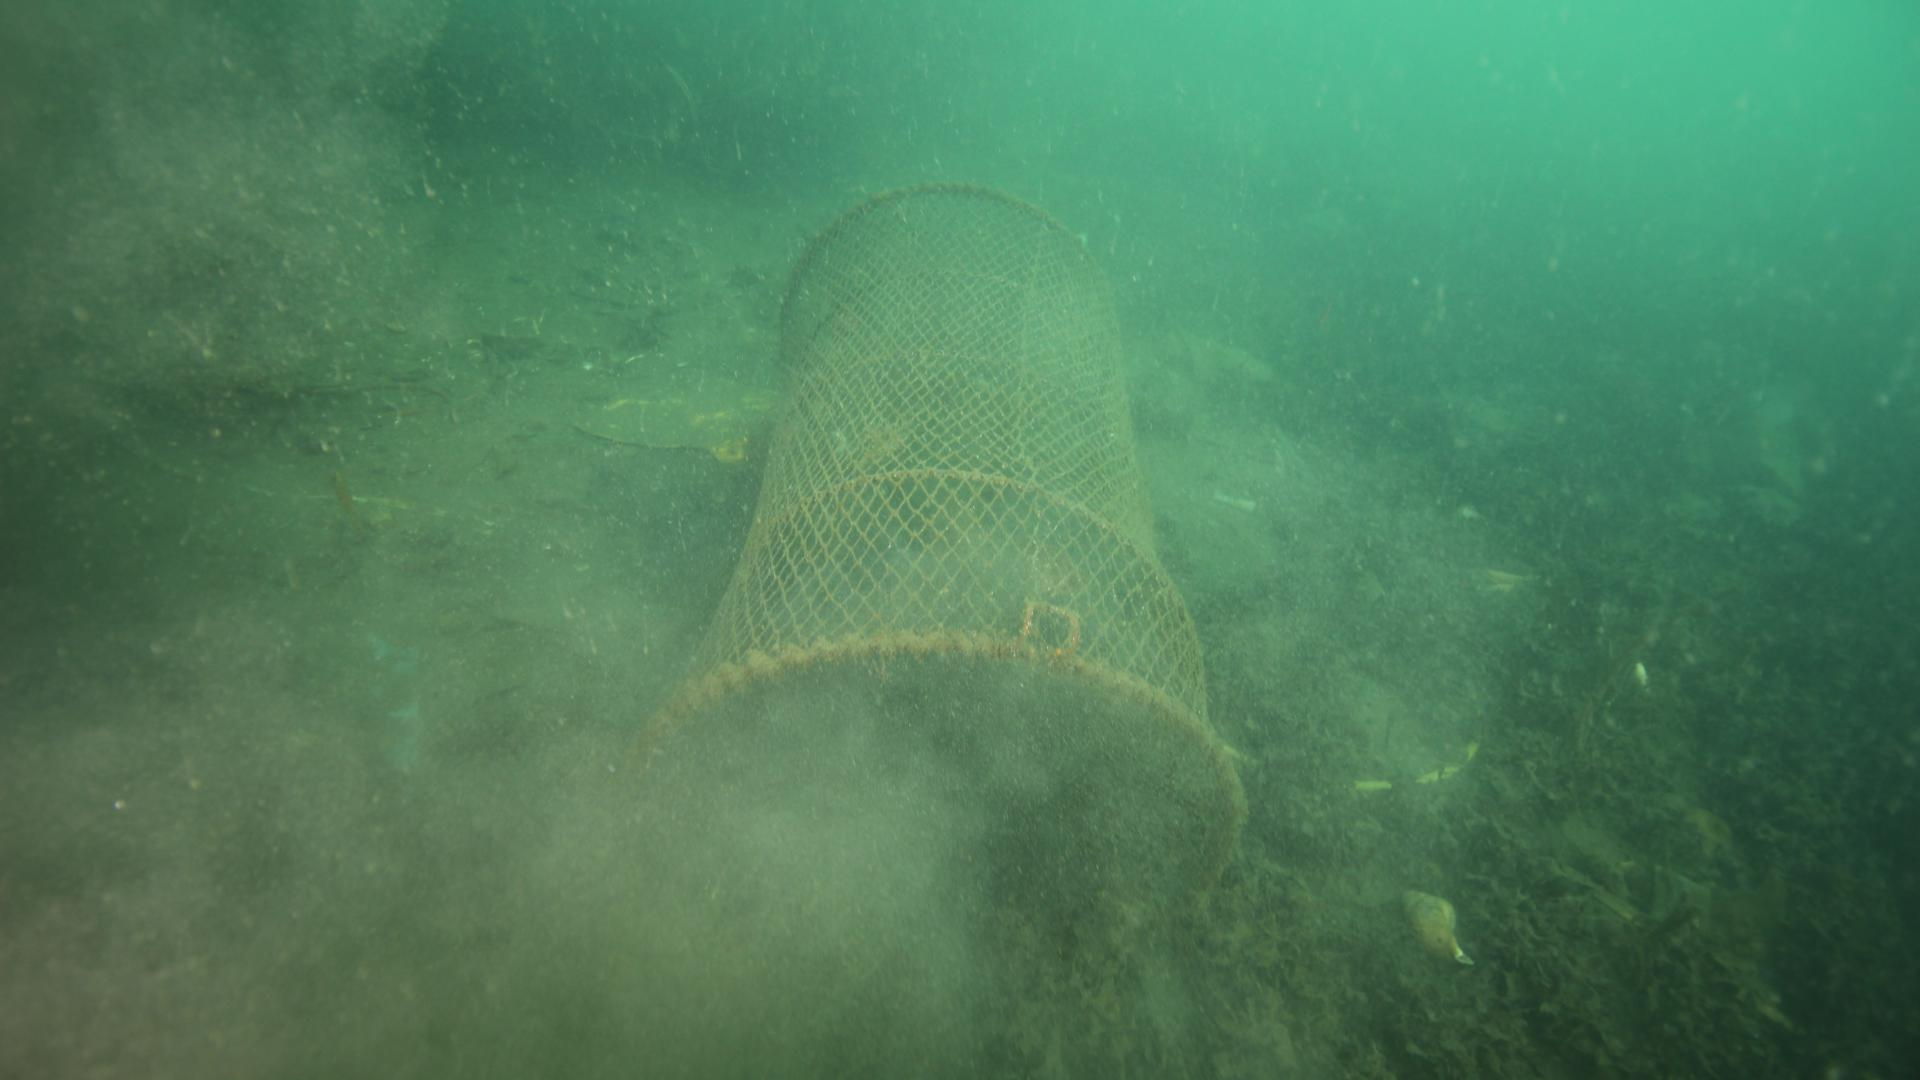spring fish trap: (615, 175, 1255, 984)
